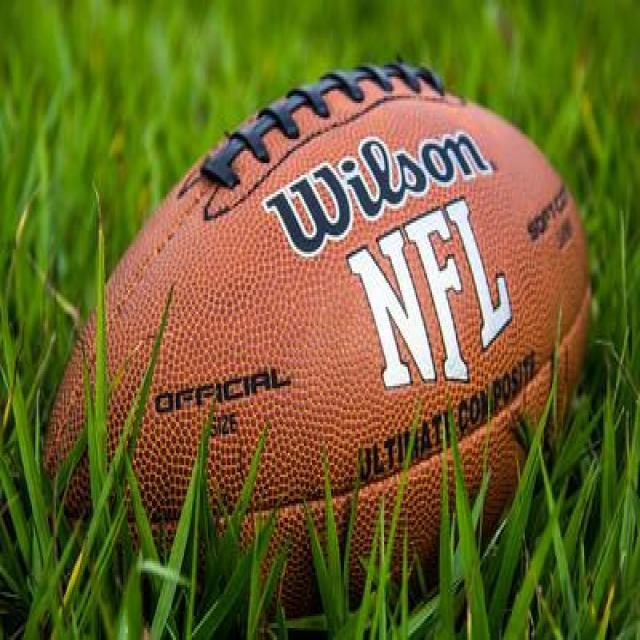ball: (19, 62, 601, 590)
